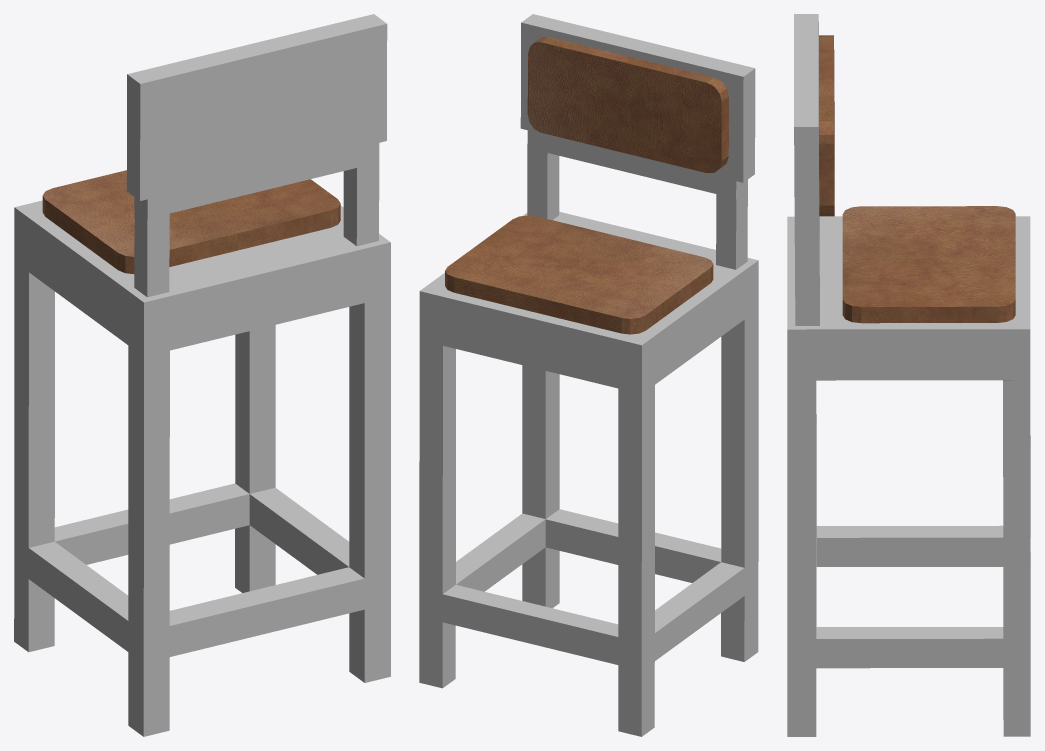
Rendered from Stool.fbx.
3 renders of one model, left to right at view 1: azimuth 30°, elevation 25°; view 2: azimuth 150°, elevation 25°; view 3: azimuth 270°, elevation 25°, orthographic. The views are drawn at different scales.
Parts seen in each view (by area): view 1: Cube; view 2: Cube; view 3: Cube.
Boxes of the visible parts, box(x1,y1,x2,y2) form: Cube: box(14, 14, 390, 736); Cube: box(419, 14, 758, 736); Cube: box(787, 14, 1030, 736).
Size of the model in its own units: 66.13 by 167 by 60.24.
